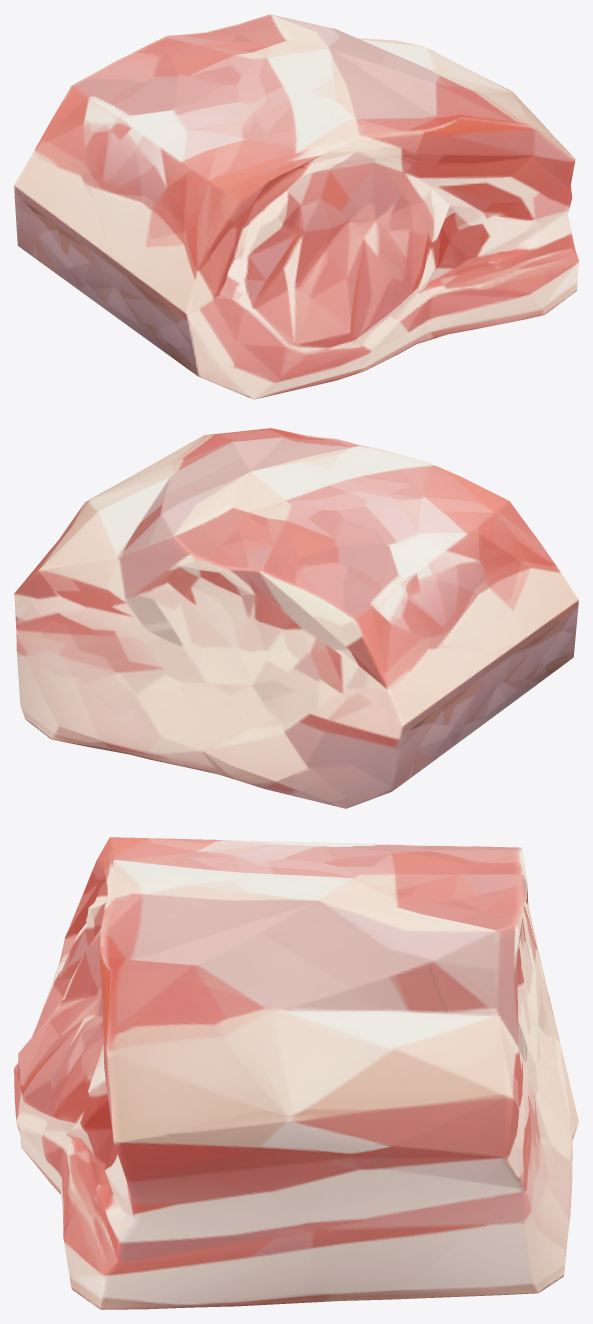
The model's file is base_basic_shaded.fbx.
3 views of the same model, one above another, from view 1: azimuth 30°, elevation 25°; view 2: azimuth 150°, elevation 25°; view 3: azimuth 270°, elevation 25° (orthographic). The views are drawn at different scales.
Visible parts, largest first — view 1: model; view 2: model; view 3: model.
Part boxes in pixels (x1=…): model: x1=14, y1=14, x2=578, y2=399; model: x1=14, y1=428, x2=578, y2=808; model: x1=14, y1=837, x2=578, y2=1309.
Size of the model in its own units: 182 by 97.46 by 162.
